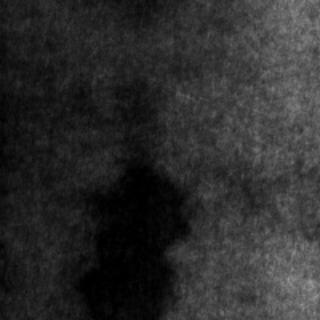patches: (73, 152, 194, 318)
